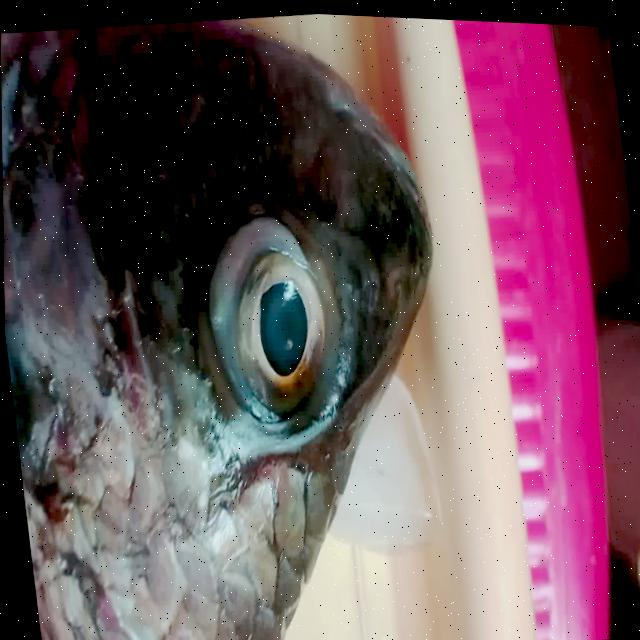Fresh: (147, 157, 407, 506)
